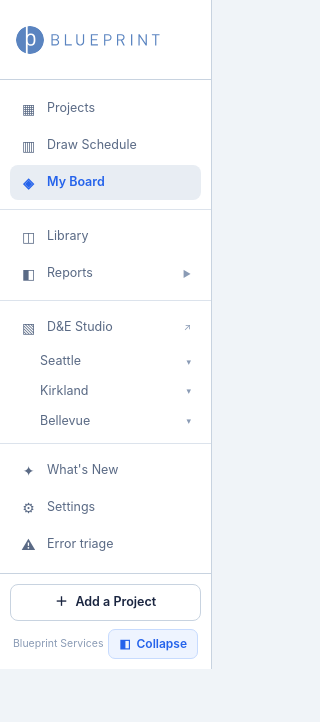
Test: fix-313 #57: collapsed shows icons only, and keeps the active state › hides the labels but keeps the entries reachable and marked
What coordinates should you click on to do the following:
click the button with test id "ribbon-collapse"
I would click on:
 (153, 644)
Its box is left=108, top=629, right=198, bottom=659.
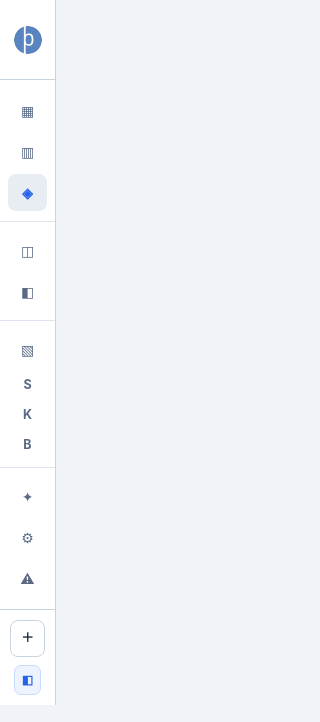
Expected: the picture with test id "blueprint-mark" is shown, left=14, top=26, right=42, bottom=54
Expected: the text with test id "ribbon-link-/board" no longer shows "My Board"
Expected: the text with test id "ribbon-brand" no longer shows "Blueprint"
